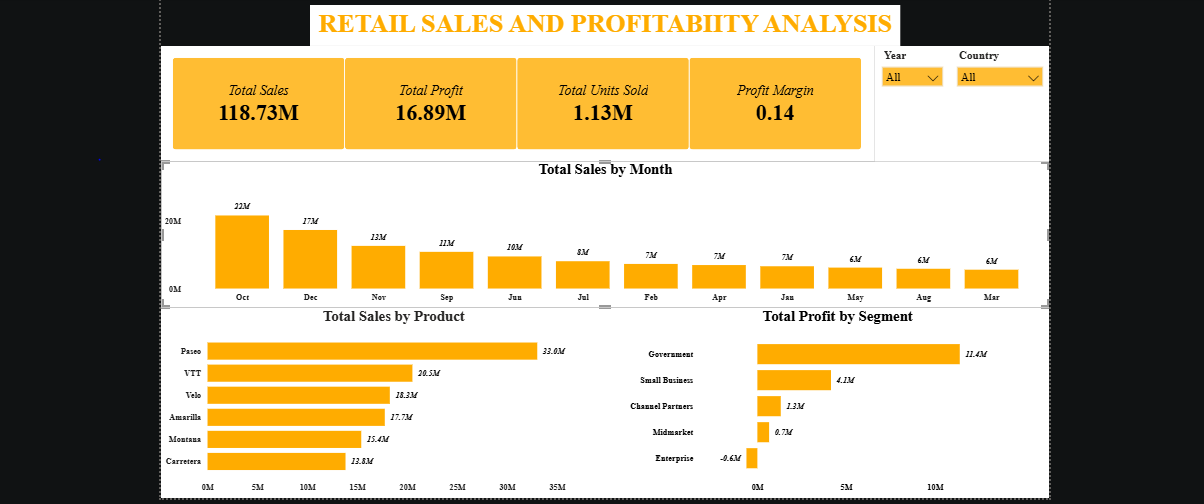

The dashboard page shown, as its layout file describes it:
{"tool":"powerbi","page":{"name":"DASHBOARD WIREFRAME","canvas":[1280,720],"ordinal":0},"visuals":[{"type":"clusteredBarChart","fields":{"Y":["CLEANED DATASET.Total Sales"],"Category":["CLEANED DATASET.Product"]},"box":[0,446.8,670.2,273.8],"z":0},{"type":"clusteredBarChart","fields":{"Y":["CLEANED DATASET.Total Profit"],"Category":["CLEANED DATASET.Segment"]},"box":[670.2,446.8,609.8,273.8],"z":1000},{"type":"cardVisual","fields":{"Data":["CLEANED DATASET.Total Sales","CLEANED DATASET.Total Profit","CLEANED DATASET.Total Units Sold","CLEANED DATASET.Profit Margin"]},"box":[0,68.9,1028,166.3],"z":2000},{"type":"columnChart","fields":{"Category":["CLEANED DATASET.Month"],"Y":["CLEANED DATASET.Total Sales"]},"box":[0,235.2,1280,211.7],"z":3000},{"type":"slicer","fields":{"Values":["CLEANED DATASET.Year"]},"box":[1028,68.9,107.5,166.3],"z":4000},{"type":"slicer","fields":{"Values":["CLEANED DATASET.Country"]},"box":[1135.5,68.9,144.5,166.3],"z":5000},{"type":"textbox","box":[215,10.1,850,58.8],"z":6000}]}

Visuals, with their boxes in screenshot pixels (x1, y1, x2, y2):
clusteredBarChart - CLEANED DATASET.Total Sales x CLEANED DATASET.Product: box(157, 306, 620, 495)
clusteredBarChart - CLEANED DATASET.Total Profit x CLEANED DATASET.Segment: box(620, 306, 1042, 495)
cardVisual - CLEANED DATASET.Total Sales x CLEANED DATASET.Total Profit: box(157, 44, 868, 159)
columnChart - CLEANED DATASET.Month x CLEANED DATASET.Total Sales: box(157, 159, 1042, 306)
slicer - CLEANED DATASET.Year: box(868, 44, 942, 159)
slicer - CLEANED DATASET.Country: box(942, 44, 1042, 159)
textbox: box(305, 4, 893, 44)
